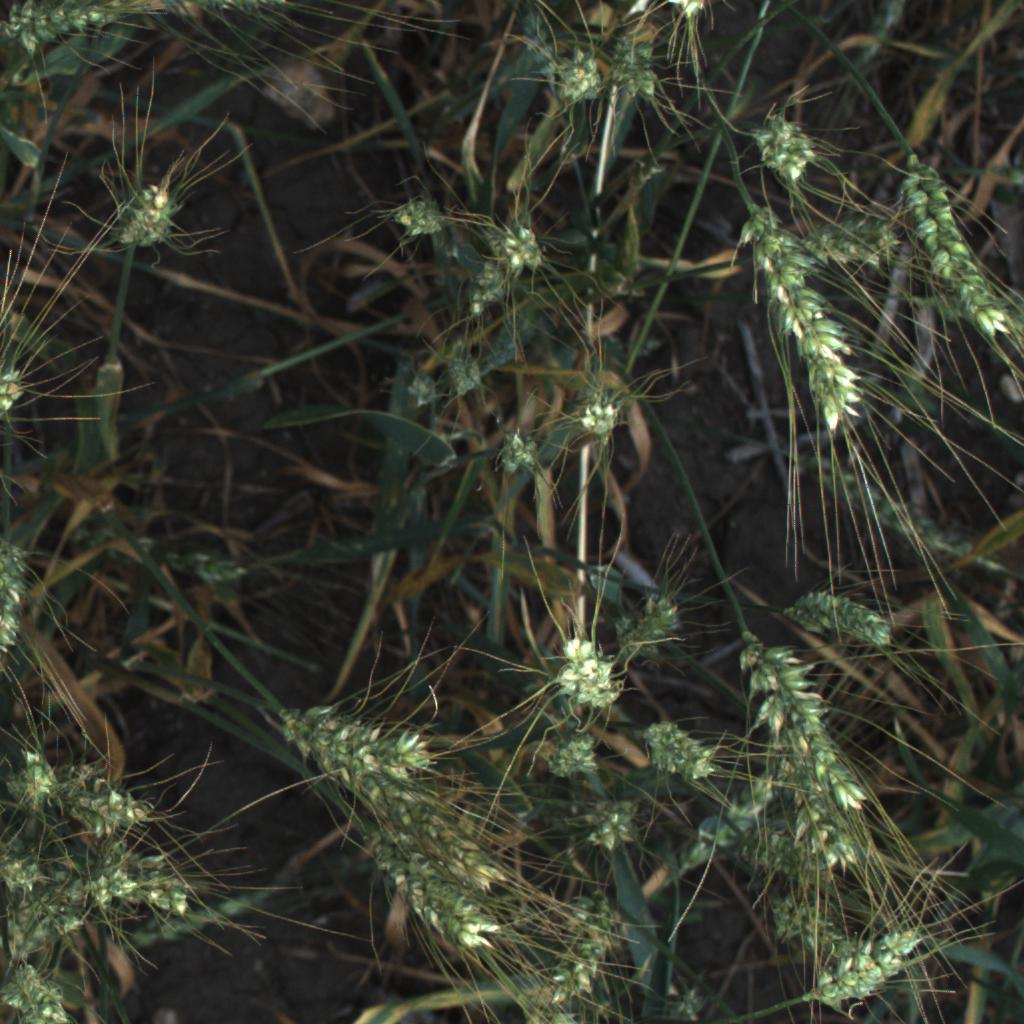0-0: (270, 700, 519, 887), (722, 204, 878, 447), (725, 625, 874, 820), (788, 452, 1015, 576), (896, 148, 1019, 349), (350, 817, 507, 959), (665, 753, 795, 879), (288, 694, 457, 778), (809, 916, 944, 1019), (770, 579, 906, 663), (542, 880, 623, 1017), (719, 816, 848, 896), (0, 879, 92, 979), (760, 885, 870, 967), (734, 97, 827, 190), (2, 0, 166, 52), (467, 210, 535, 322), (62, 764, 159, 841), (635, 711, 721, 791), (110, 173, 190, 258), (792, 209, 900, 271), (636, 574, 707, 665), (554, 625, 623, 712), (379, 179, 464, 247), (597, 31, 677, 103), (0, 511, 37, 665), (0, 961, 83, 1024), (535, 719, 611, 784), (579, 791, 647, 859), (116, 873, 204, 924), (538, 45, 605, 111), (1, 743, 62, 813), (566, 391, 643, 444), (80, 864, 142, 912), (501, 221, 562, 267), (494, 426, 542, 484), (0, 851, 54, 898), (0, 358, 34, 426), (657, 0, 718, 26)
